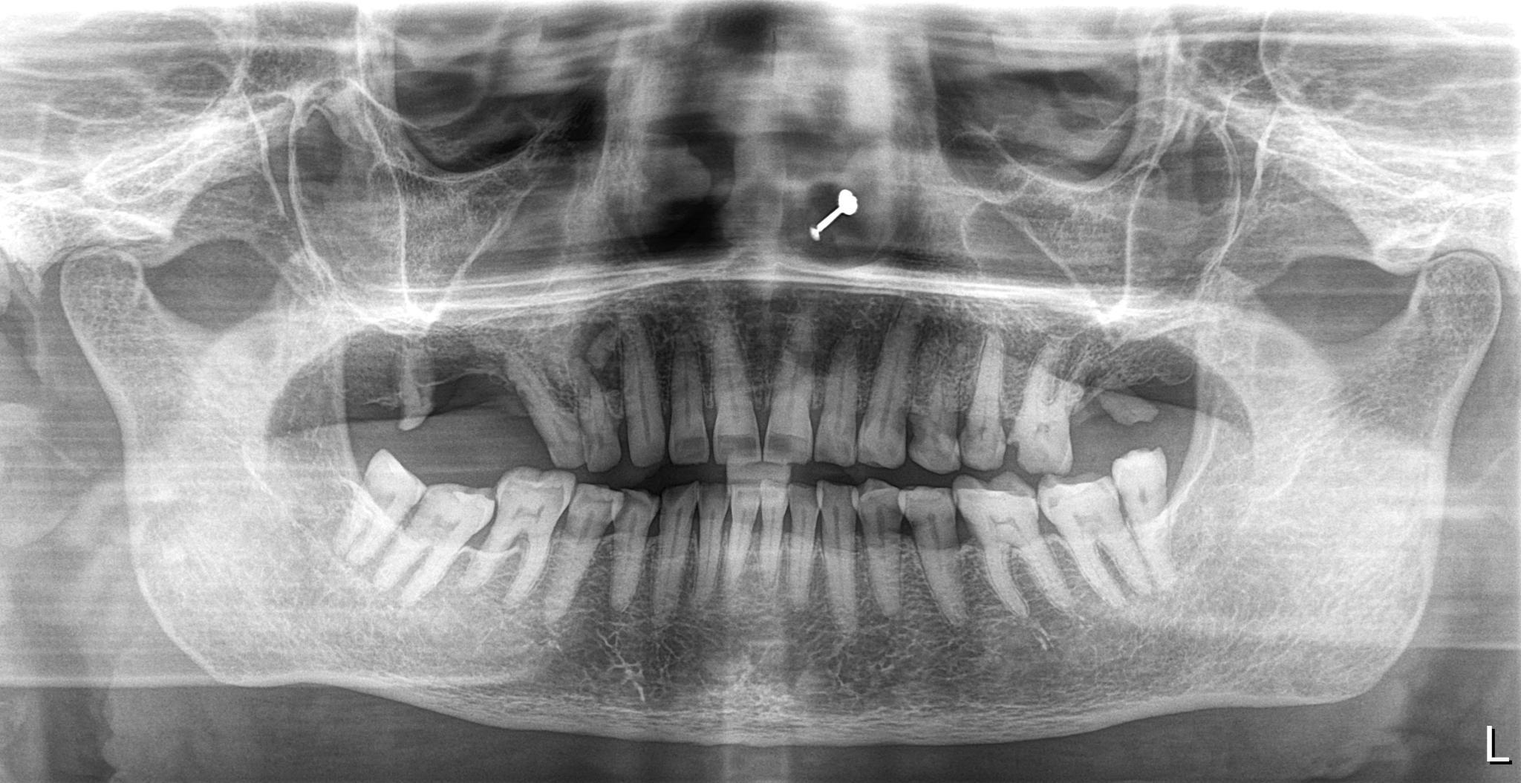Impacted Third Molar: (1120, 452, 1220, 596), (330, 455, 418, 558)
Missing Tooth: (1058, 340, 1207, 451), (446, 357, 515, 448), (342, 342, 393, 431)
Retained Root: (1096, 370, 1174, 430), (397, 340, 443, 440)
